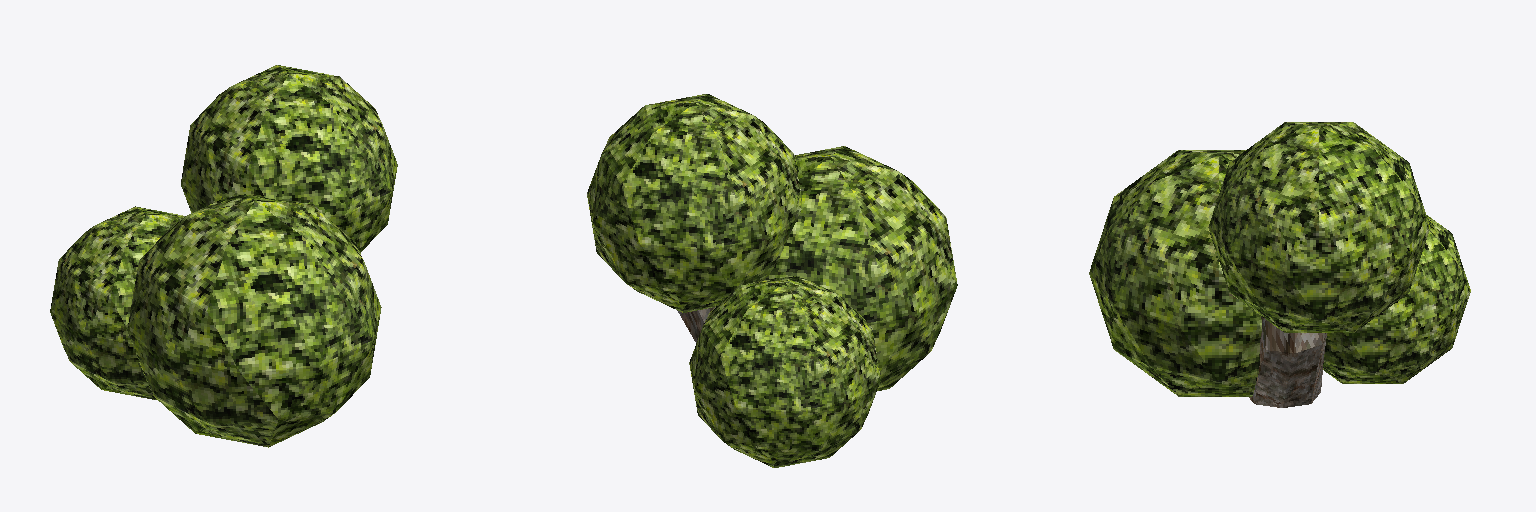
3 renders of one model, left to right at view 1: azimuth 30°, elevation 25°; view 2: azimuth 150°, elevation 25°; view 3: azimuth 270°, elevation 25°, orthographic.
Visible parts, largest first — view 1: Cube_Cube.002; view 2: Cube_Cube.002; view 3: Cube_Cube.002.
Part boxes in pixels (left/top/right/bottom): Cube_Cube.002: left=50, top=65, right=397, bottom=447; Cube_Cube.002: left=587, top=94, right=957, bottom=467; Cube_Cube.002: left=1089, top=122, right=1470, bottom=407.
Size of the model in its own units: 2.56 by 2.63 by 2.94.
1 materials, 1 textured.